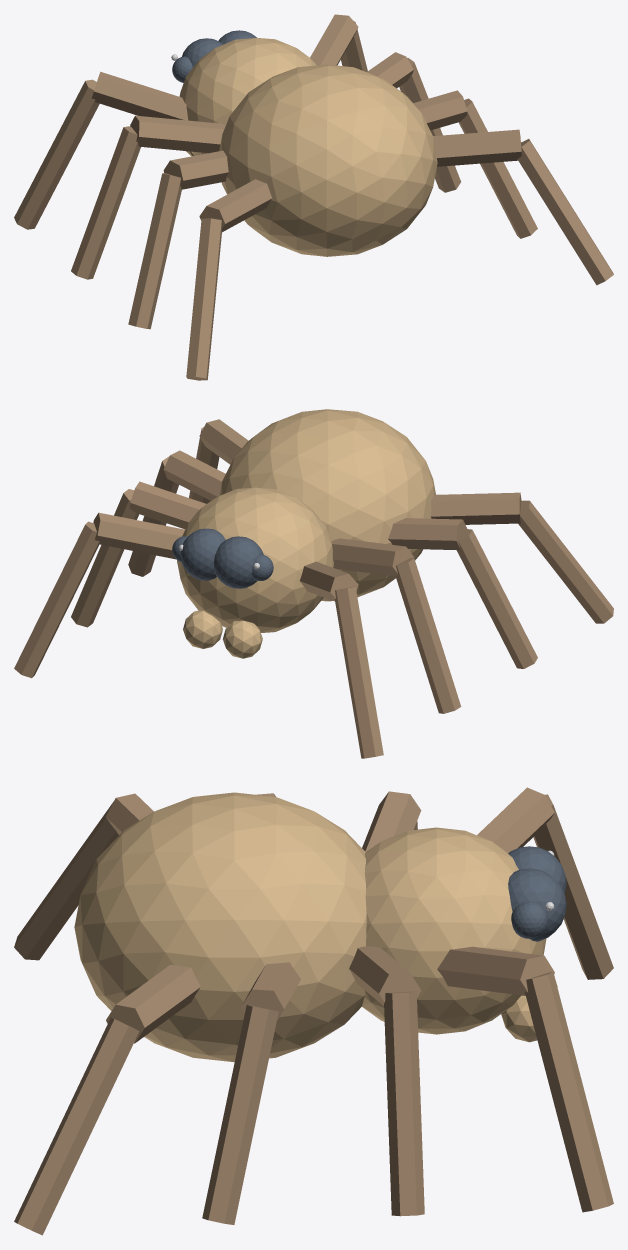
Rendered from spider_worker_orange.glb.
The picture shows the model from 3 angles, top to bottom: view 1: azimuth 30°, elevation 25°; view 2: azimuth 150°, elevation 25°; view 3: azimuth 270°, elevation 25°; orthographic projection. The views are drawn at different scales.
Parts seen in each view (by area): view 1: Abdomen, Cephalothorax, Leg_-1_0_B, Leg_-1_1_B, Leg_-1_2_B, Leg_-1_3_B, Leg_1_3_B, Leg_-1_1_A, Leg_-1_0_A, Leg_1_3_A, Leg_1_2_B, Leg_-1_3_A (+7 smaller); view 2: Abdomen, Cephalothorax, Leg_-1_0_B, Leg_-1_1_B, Leg_1_0_B, Leg_-1_2_B, Leg_-1_3_B, Leg_1_0_A, Leg_-1_3_A, Leg_1_1_B, Leg_-1_1_A, Leg_-1_2_A (+10 smaller); view 3: Abdomen, Cephalothorax, Leg_1_0_B, Leg_1_1_B, Leg_1_3_B, Leg_1_2_B, Leg_-1_3_B, Leg_-1_0_B, Leg_1_0_A, Leg_1_3_A, Leg_-1_0_A, Leg_1_1_A (+7 smaller).
Boxes of the visible parts, bbox=[...] form: Abdomen: bbox=[219, 64, 437, 256]; Cephalothorax: bbox=[179, 38, 316, 155]; Leg_-1_0_B: bbox=[14, 79, 99, 229]; Leg_-1_1_B: bbox=[71, 126, 140, 279]; Leg_-1_2_B: bbox=[128, 173, 181, 329]; Leg_-1_3_B: bbox=[186, 218, 221, 380]; Leg_1_3_B: bbox=[517, 139, 613, 285]; Leg_-1_1_A: bbox=[130, 115, 225, 153]; Leg_-1_0_A: bbox=[92, 71, 188, 120]; Leg_1_3_A: bbox=[433, 129, 521, 166]; Leg_1_2_B: bbox=[458, 98, 537, 238]; Leg_-1_3_A: bbox=[199, 179, 271, 232]; Abdomen: bbox=[220, 409, 435, 601]; Cephalothorax: bbox=[177, 487, 333, 632]; Leg_-1_0_B: bbox=[334, 586, 383, 758]; Leg_-1_1_B: bbox=[395, 558, 461, 713]; Leg_1_0_B: bbox=[14, 521, 99, 678]; Leg_-1_2_B: bbox=[457, 529, 537, 668]; Leg_-1_3_B: bbox=[518, 500, 613, 623]; Leg_1_0_A: bbox=[93, 512, 184, 559]; Leg_-1_3_A: bbox=[430, 492, 521, 524]; Leg_1_1_B: bbox=[71, 489, 139, 627]; Leg_-1_1_A: bbox=[331, 538, 413, 576]; Leg_-1_2_A: bbox=[388, 518, 467, 550]; Abdomen: bbox=[74, 792, 366, 1062]; Cephalothorax: bbox=[362, 827, 546, 1034]; Leg_1_0_B: bbox=[525, 972, 613, 1212]; Leg_1_1_B: bbox=[384, 991, 424, 1216]; Leg_1_3_B: bbox=[14, 1017, 139, 1235]; Leg_1_2_B: bbox=[202, 1005, 278, 1224]; Leg_-1_3_B: bbox=[14, 801, 118, 960]; Leg_-1_0_B: bbox=[533, 794, 613, 979]; Leg_1_0_A: bbox=[437, 946, 554, 995]; Leg_1_3_A: bbox=[106, 964, 200, 1043]; Leg_-1_0_A: bbox=[477, 787, 554, 852]; Leg_1_1_A: bbox=[349, 946, 421, 1005].
Bounding box in the file's own units: 1.72 × 0.7869 × 1.48.
